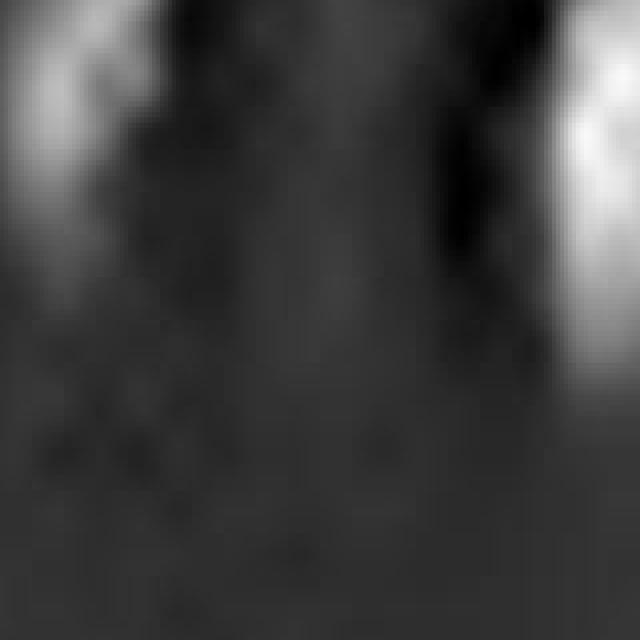person: (1, 1, 177, 337), (537, 1, 640, 438)
